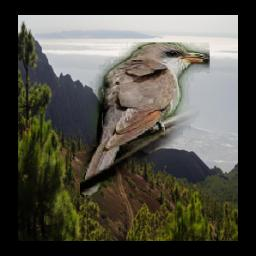Cuckoo: (79, 43, 209, 200)
